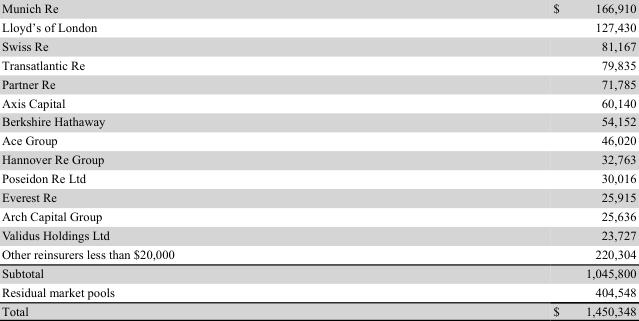table: (0, 0, 635, 317)
table column: (0, 0, 363, 317), (363, 0, 635, 317)
table row: (0, 35, 635, 54), (0, 54, 635, 73), (0, 73, 635, 92), (0, 92, 635, 111), (0, 111, 635, 130), (0, 130, 635, 149), (0, 149, 635, 168), (0, 168, 635, 187), (0, 187, 635, 206), (0, 206, 635, 225), (0, 225, 635, 244), (0, 244, 635, 263), (0, 263, 635, 282), (0, 282, 635, 301), (0, 17, 635, 35), (0, 0, 635, 17), (0, 301, 635, 317)
